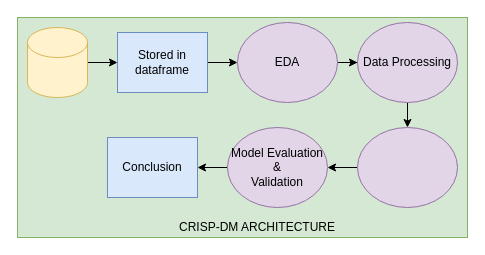
The diagram is 485 pixels wide and 255 high, and some of its shapes have lost their labels. Each missing label, with the centre of its shape:
DATA: pixel 57 62
Feature Importance: pixel 407 167
